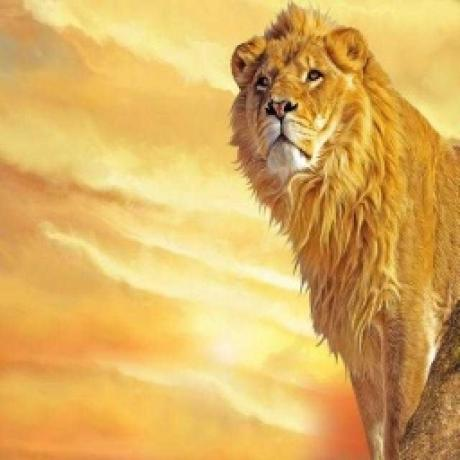Lion: (223, 0, 460, 460)
